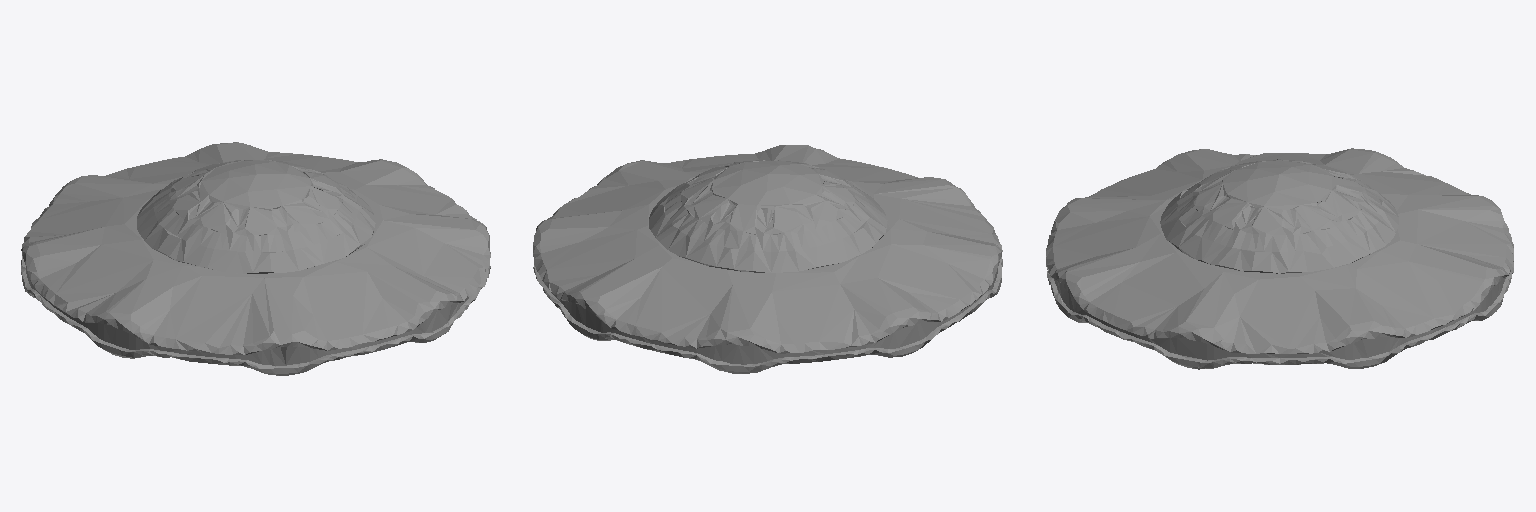
The model's file is frame_016.obj.
The picture shows the model from 3 angles: view 1: azimuth 30°, elevation 25°; view 2: azimuth 150°, elevation 25°; view 3: azimuth 270°, elevation 25°; orthographic projection.
Visible parts, largest first — view 1: 13884_UFO_Saucer_v1_l2; view 2: 13884_UFO_Saucer_v1_l2; view 3: 13884_UFO_Saucer_v1_l2.
Part boxes in pixels (x1,y1,x2,y2): 13884_UFO_Saucer_v1_l2: (21, 142, 490, 375); 13884_UFO_Saucer_v1_l2: (533, 145, 1002, 373); 13884_UFO_Saucer_v1_l2: (1046, 148, 1513, 369).
Size of the model in its own units: 12.69 by 4.88 by 12.7.